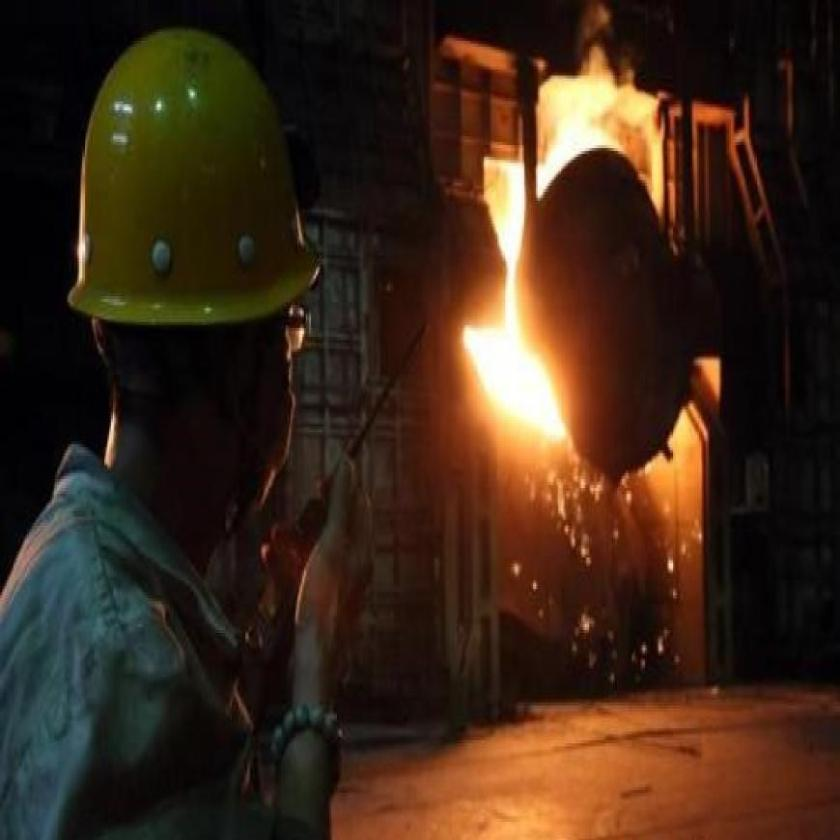Con_casco: (69, 29, 326, 554)
